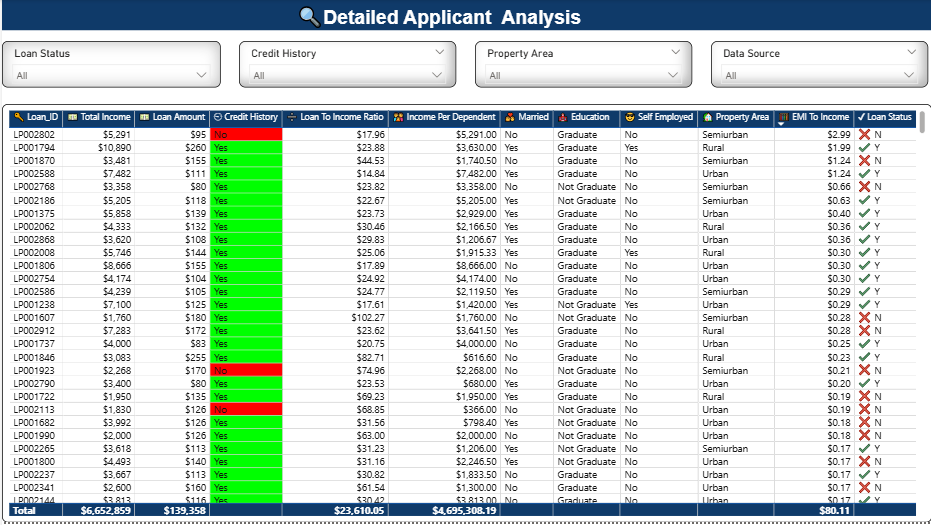

The dashboard page shown, as its layout file describes it:
{"tool":"powerbi","page":{"name":"applicant details","canvas":[1280,720],"ordinal":1},"visuals":[{"type":"textbox","box":[0,0,1280,43],"z":0,"group":"g1"},{"type":"slicer","fields":{"Values":["lending_data.Data_Source"]},"box":[976,58,299,64],"z":0,"group":"g2"},{"type":"tableEx","fields":{"Values":["lending_data.Loan_ID","Sum(lending_data.TotalIncome)","Sum(lending_data.LoanAmount)","lending_data.Credit History Text","Sum(lending_data.LoanToIncome)","Sum(lending_data.IncomePerDependent)","lending_data.Married","lending_data.Education","lending_data.Self_Employed","lending_data.Property_Area","Sum(lending_data.EMIToIncome)","lending_data.Loan_Status"]},"box":[0,144,1280,576],"z":0},{"type":"group","id":"g1","title":"Group 4","box":[0,0,1280,48],"z":1000},{"type":"textbox","box":[400,0,528,48],"z":1000,"group":"g1"},{"type":"slicer","fields":{"Values":["lending_data.Credit History Text"]},"box":[326.8,58,299,64],"z":1000,"group":"g2"},{"type":"group","id":"g2","title":"Group 2","box":[0,58,1275,64],"z":2000},{"type":"slicer","fields":{"Values":["lending_data.Loan_Status"]},"box":[0,58,301.2,64],"z":2000,"group":"g2"},{"type":"slicer","fields":{"Values":["lending_data.Property_Area"]},"box":[651.4,58,299,64],"z":3000,"group":"g2"}]}

Visuals, with their boxes in screenshot pixels (x1, y1, x2, y2), scaled from the page's 1280x720 canvas onto the 931x525 screenshot:
textbox: {"x1": 0, "y1": 0, "x2": 930, "y2": 31}
slicer - lending_data.Data_Source: {"x1": 710, "y1": 42, "x2": 927, "y2": 89}
tableEx - lending_data.Loan_ID x Sum(lending_data.TotalIncome): {"x1": 0, "y1": 105, "x2": 930, "y2": 524}
"Group 4" group: {"x1": 0, "y1": 0, "x2": 930, "y2": 35}
textbox: {"x1": 291, "y1": 0, "x2": 675, "y2": 35}
slicer - lending_data.Credit History Text: {"x1": 238, "y1": 42, "x2": 455, "y2": 89}
"Group 2" group: {"x1": 0, "y1": 42, "x2": 927, "y2": 89}
slicer - lending_data.Loan_Status: {"x1": 0, "y1": 42, "x2": 219, "y2": 89}
slicer - lending_data.Property_Area: {"x1": 474, "y1": 42, "x2": 691, "y2": 89}
